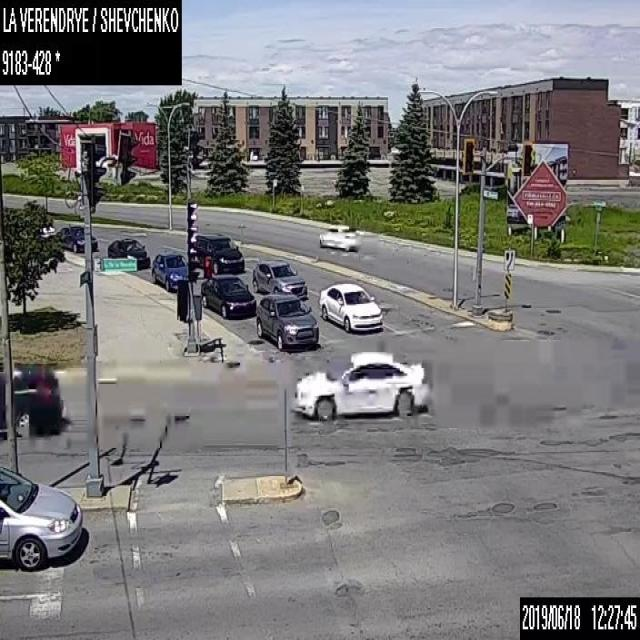vehicle: (292, 348, 431, 421), (0, 461, 84, 579), (0, 364, 61, 439), (256, 292, 319, 349), (319, 282, 383, 334), (200, 273, 256, 319), (252, 258, 306, 300), (193, 233, 244, 273), (106, 236, 150, 269), (152, 250, 188, 290), (54, 221, 98, 252), (319, 222, 359, 250)
